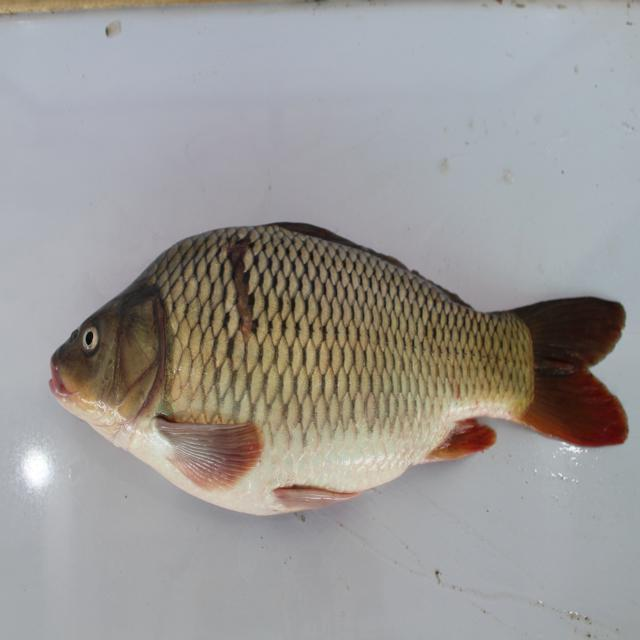CommonCarp: (41, 206, 634, 529)
